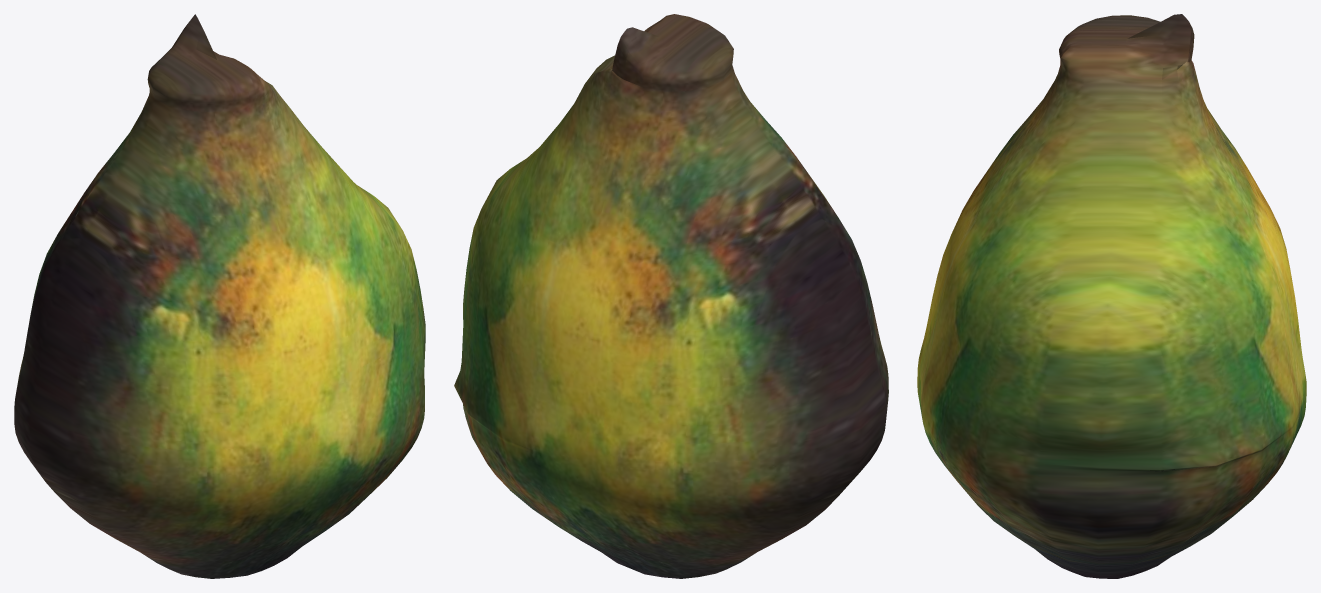
The model's file is pear2.obj.
The picture shows the model from 3 angles, left to right: view 1: azimuth 30°, elevation 25°; view 2: azimuth 150°, elevation 25°; view 3: azimuth 270°, elevation 25°; orthographic projection. The views are drawn at different scales.
Parts seen in each view (by area): view 1: 000_Cylinder_-_baked; view 2: 000_Cylinder_-_baked; view 3: 000_Cylinder_-_baked.
Part boxes in pixels (x1,y1,x2,y2): 000_Cylinder_-_baked: (14,14,425,578); 000_Cylinder_-_baked: (454,14,888,578); 000_Cylinder_-_baked: (917,14,1306,578).
Size of the model in its own units: 175 by 236 by 152.
1 material, 1 textured.
